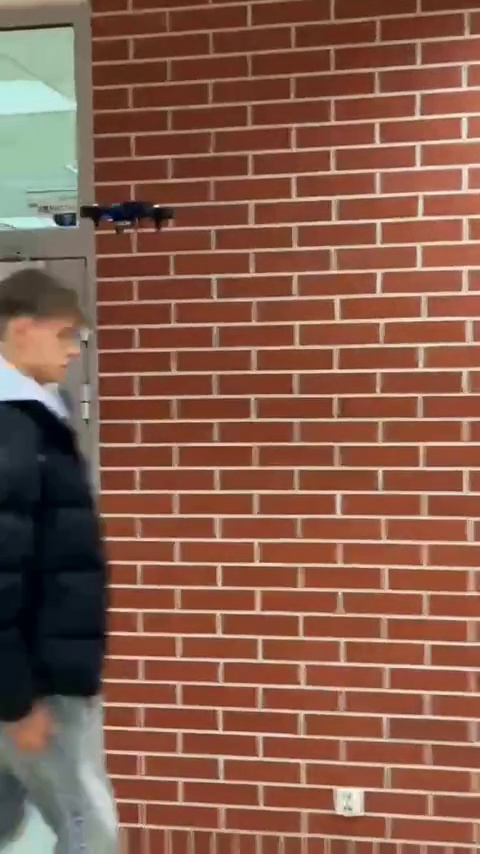drone: (75, 195, 174, 228)
no vest: (0, 270, 134, 844)
